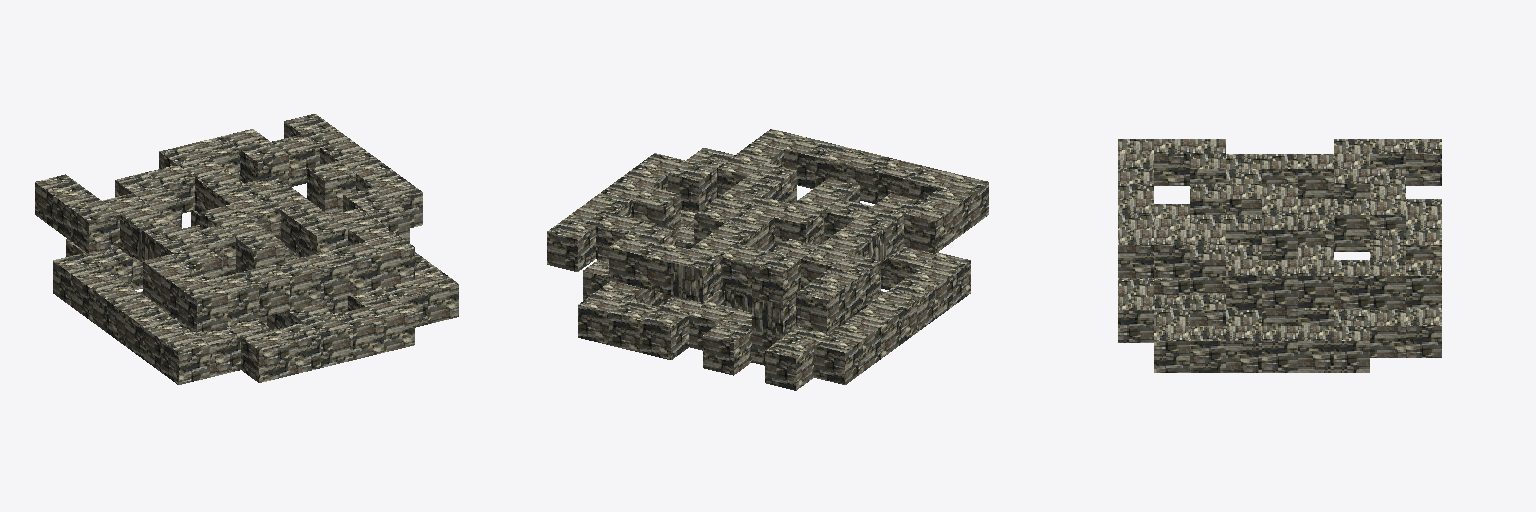
3 views of the same model, side by side, from view 1: azimuth 30°, elevation 25°; view 2: azimuth 150°, elevation 25°; view 3: azimuth 270°, elevation 25° (orthographic).
Parts seen in each view (by area): view 1: 立方体; view 2: 立方体; view 3: 立方体.
Part boxes in pixels (left/top/right/bottom): 立方体: left=35, top=114, right=458, bottom=384; 立方体: left=547, top=129, right=988, bottom=390; 立方体: left=1118, top=139, right=1441, bottom=372.
Size of the model in its own units: 18 by 6 by 18.
1 materials, 1 textured.